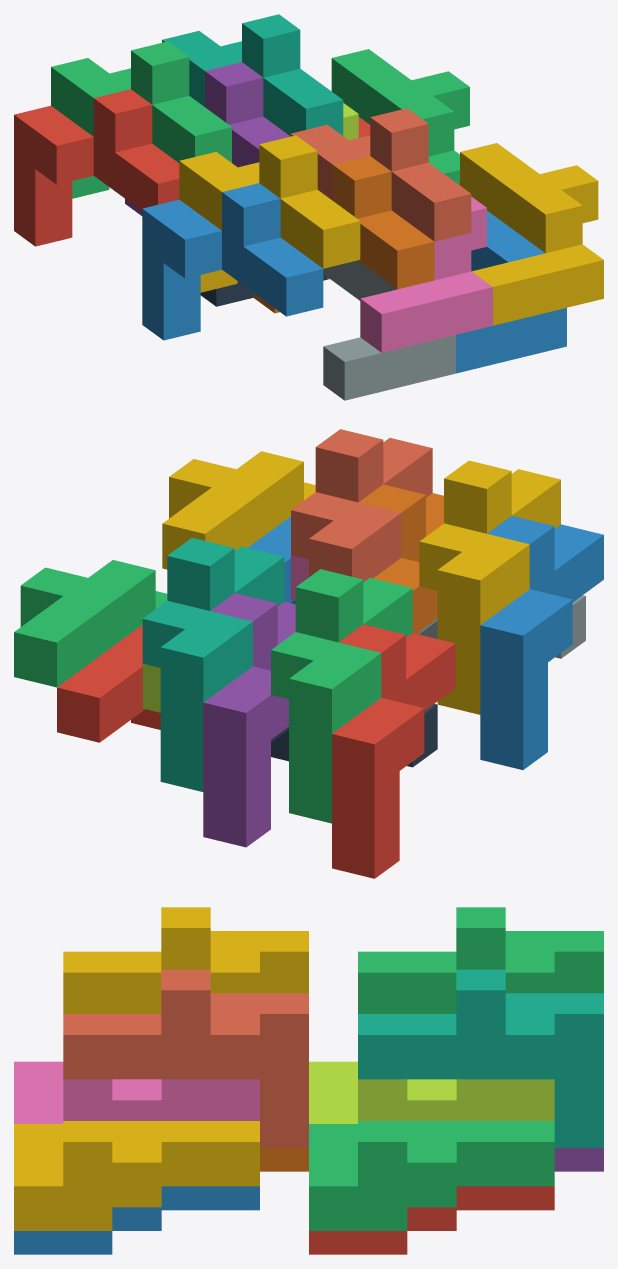
File: tiling.obj
3 renders of one model, top to bottom at view 1: azimuth 30°, elevation 25°; view 2: azimuth 150°, elevation 25°; view 3: azimuth 270°, elevation 25°, orthographic. The views are drawn at different scales.
Parts seen in each view (by area): view 1: copy_1_domain_2, copy_2_domain_8, copy_1_domain_1, copy_1_domain_4, copy_1_domain_3, copy_1_domain_8, copy_2_domain_4, copy_1_domain_7, copy_2_domain_7, copy_1_domain_6, copy_2_domain_2, copy_2_domain_6 (+2 smaller); view 2: copy_1_domain_7, copy_1_domain_3, copy_1_domain_2, copy_1_domain_1, copy_1_domain_4, copy_1_domain_5, copy_1_domain_8, copy_2_domain_7, copy_2_domain_8, copy_2_domain_5, copy_1_domain_6, copy_2_domain_6 (+3 smaller); view 3: copy_1_domain_7, copy_1_domain_8, copy_2_domain_7, copy_2_domain_8, copy_1_domain_3, copy_1_domain_4, copy_2_domain_4, copy_2_domain_3, copy_2_domain_5, copy_2_domain_6, copy_1_domain_5, copy_1_domain_6.
Part boxes in pixels (<box>): copy_1_domain_2: <box>142,183,323,340</box>; copy_2_domain_8: <box>460,143,603,325</box>; copy_1_domain_1: <box>14,89,179,246</box>; copy_1_domain_4: <box>179,135,360,292</box>; copy_1_domain_3: <box>51,41,231,198</box>; copy_1_domain_8: <box>290,108,471,241</box>; copy_2_domain_4: <box>360,196,492,352</box>; copy_1_domain_7: <box>162,14,343,135</box>; copy_2_domain_7: <box>331,49,469,184</box>; copy_1_domain_6: <box>253,156,434,313</box>; copy_2_domain_2: <box>323,260,455,400</box>; copy_2_domain_6: <box>456,211,566,373</box>; copy_1_domain_7: <box>142,538,284,791</box>; copy_1_domain_3: <box>271,569,412,823</box>; copy_1_domain_2: <box>480,516,603,769</box>; copy_1_domain_1: <box>332,624,455,878</box>; copy_1_domain_4: <box>419,460,560,714</box>; copy_1_domain_5: <box>203,593,295,847</box>; copy_1_domain_8: <box>291,429,432,582</box>; copy_2_domain_7: <box>14,560,167,687</box>; copy_2_domain_8: <box>162,451,315,569</box>; copy_2_domain_5: <box>57,625,160,742</box>; copy_1_domain_6: <box>358,484,443,634</box>; copy_2_domain_6: <box>248,516,295,604</box>; copy_1_domain_7: <box>358,969,603,1147</box>; copy_1_domain_8: <box>63,969,308,1147</box>; copy_2_domain_7: <box>309,1121,554,1230</box>; copy_2_domain_8: <box>14,1121,259,1230</box>; copy_1_domain_3: <box>358,907,603,1013</box>; copy_1_domain_4: <box>63,907,308,1013</box>; copy_2_domain_4: <box>14,1061,259,1123</box>; copy_2_domain_3: <box>309,1061,554,1123</box>; copy_2_domain_5: <box>309,1186,554,1254</box>; copy_2_domain_6: <box>14,1186,259,1254</box>; copy_1_domain_5: <box>554,1148,603,1171</box>; copy_1_domain_6: <box>260,1148,308,1171</box>.
Bounding box in the file's own units: 10 × 5 × 12.
